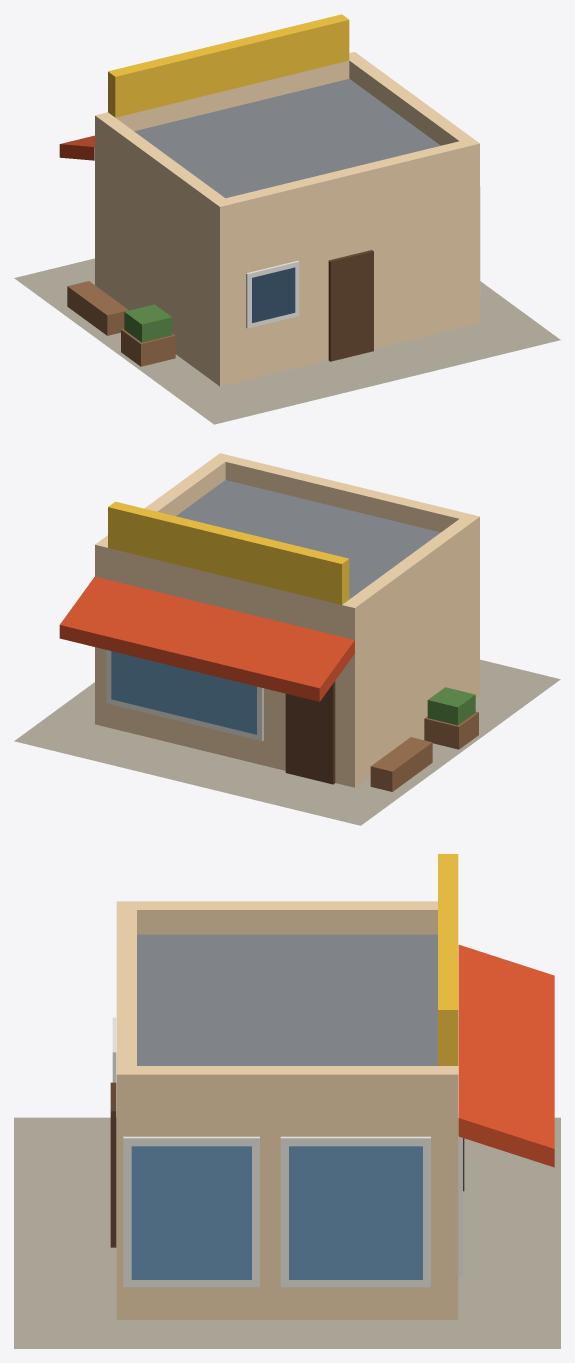
The picture shows the model from 3 angles, top to bottom: view 1: azimuth 30°, elevation 25°; view 2: azimuth 150°, elevation 25°; view 3: azimuth 270°, elevation 25°; orthographic projection. The views are drawn at different scales.
Visible parts, largest first — view 1: walls, roof, forecourt, parapet (×4), sign, door, bench, window_glass, planter_plants, planter, window_frame, awning; view 2: walls, awning, forecourt, parapet (×4), sign, roof, storefront, door, bench, storefront_frame, planter_plants, planter; view 3: forecourt, roof, storefront (×2), walls, parapet (×4), awning, storefront_frame (×3), sign, door.
Part boxes in pixels (left/top/right/bottom): walls: left=95, top=134, right=479, bottom=386; roof: left=134, top=79, right=440, bottom=198; forecourt: left=14, top=258, right=560, bottom=424; parapet (×4): left=95, top=52, right=479, bottom=224; sign: left=108, top=14, right=349, bottom=117; door: left=328, top=250, right=373, bottom=361; bench: left=67, top=281, right=128, bottom=335; window_glass: left=252, top=267, right=295, bottom=322; planter_plants: left=124, top=304, right=172, bottom=342; planter: left=121, top=329, right=175, bottom=366; window_frame: left=246, top=260, right=299, bottom=328; awning: left=59, top=135, right=94, bottom=160; walls: left=95, top=535, right=479, bottom=787; awning: left=59, top=576, right=354, bottom=701; forecourt: left=14, top=659, right=560, bottom=825; parapet (×4): left=95, top=453, right=479, bottom=626; sign: left=108, top=501, right=349, bottom=604; roof: left=176, top=480, right=440, bottom=599; storefront: left=111, top=651, right=256, bottom=734; door: left=285, top=681, right=335, bottom=784; bench: left=370, top=737, right=432, bottom=791; storefront_frame: left=106, top=650, right=263, bottom=741; planter_plants: left=427, top=687, right=475, bottom=725; planter: left=424, top=711, right=478, bottom=749; forecourt: left=14, top=1117, right=560, bottom=1348; roof: left=137, top=934, right=437, bottom=1065; storefront (×2): left=131, top=1146, right=422, bottom=1279; walls: left=116, top=1099, right=458, bottom=1319; parapet (×4): left=116, top=901, right=458, bottom=1099; awning: left=458, top=944, right=554, bottom=1167; storefront_frame (×3): left=123, top=1136, right=462, bottom=1287; sign: left=438, top=854, right=458, bottom=1065; door: left=110, top=1082, right=116, bottom=1247.
Size of the model in its own units: 8 by 4.9 by 8.
